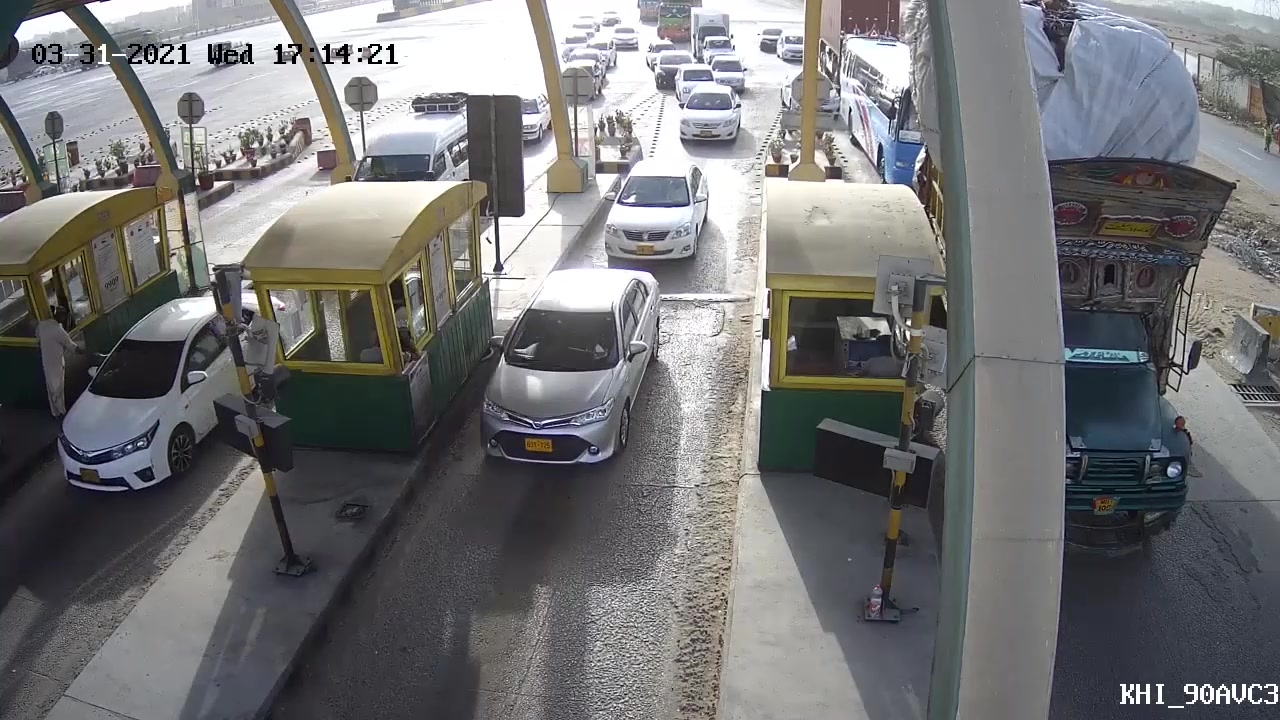F1: (480, 254, 668, 484), (598, 151, 716, 270)
